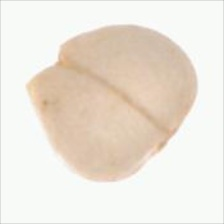L5: (57, 56, 171, 147), (25, 44, 83, 120)
L6: (21, 22, 204, 186)
